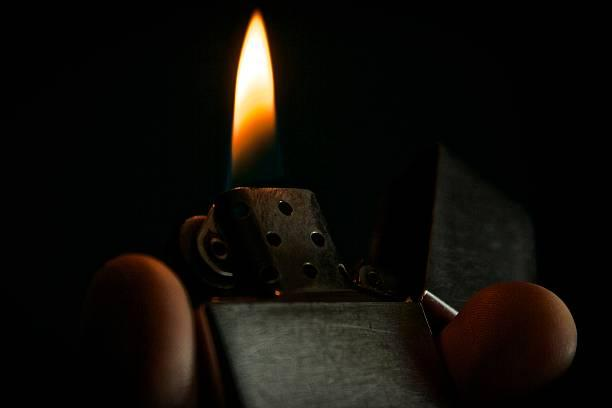Fire: (230, 8, 278, 186)
